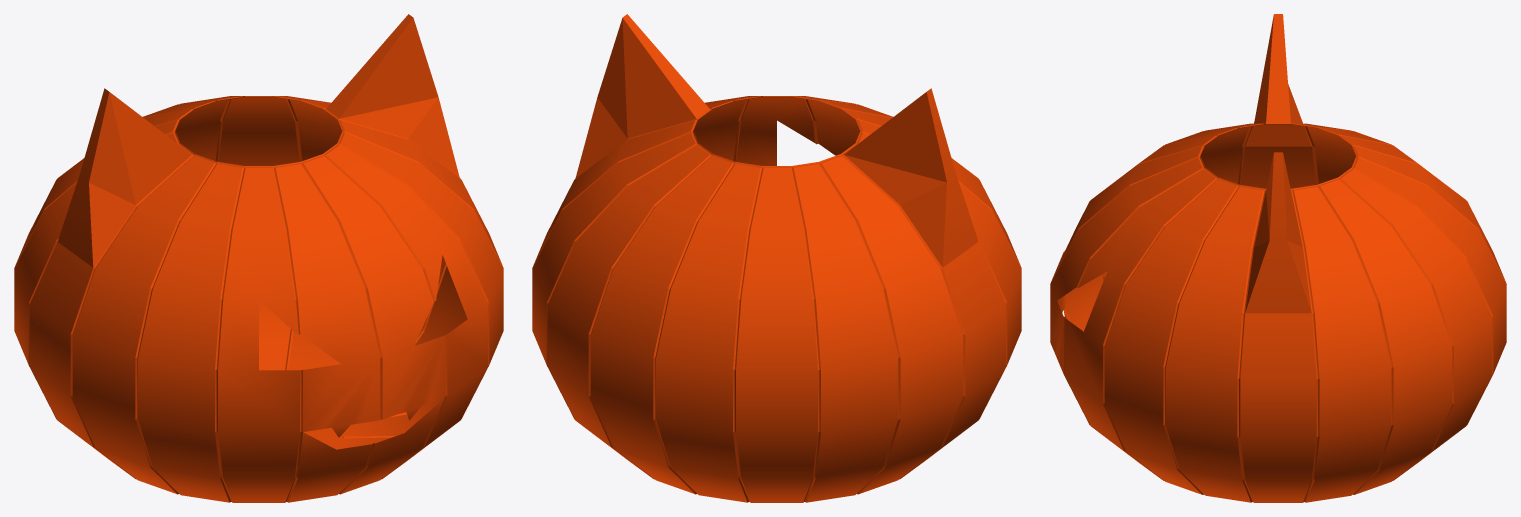
Rendered from PumpkinCatHead.fbx.
3 renders of one model, left to right at view 1: azimuth 30°, elevation 25°; view 2: azimuth 150°, elevation 25°; view 3: azimuth 270°, elevation 25°, orthographic. The views are drawn at different scales.
Parts seen in each view (by area): view 1: Pumpkin Cat Lantern; view 2: Pumpkin Cat Lantern; view 3: Pumpkin Cat Lantern.
Boxes of the visible parts, <box> form: Pumpkin Cat Lantern: <box>14,14,503,502</box>; Pumpkin Cat Lantern: <box>532,14,1021,502</box>; Pumpkin Cat Lantern: <box>1050,14,1506,502</box>.
Bounding box in the file's own units: 54.43 × 47.93 × 55.21.
